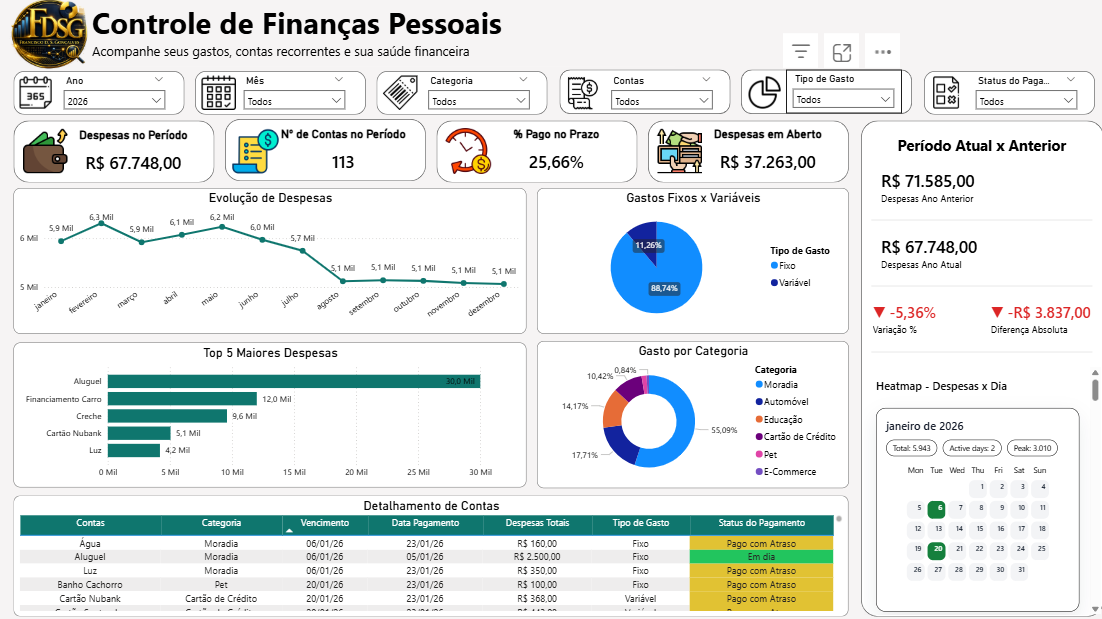

Layout of this report page (visuals, bound fields, positions):
{"tool":"powerbi","page":{"name":"Página 1","canvas":[1600,900],"ordinal":0},"visuals":[{"type":"shape","box":[1247.7,176.1,352.3,719.3],"z":0},{"type":"shape","box":[18.9,175.6,291.1,90],"z":1000},{"type":"shape","box":[1338.9,103.3,247.8,63.3],"z":2000},{"type":"shape","box":[1074.4,102.2,247.8,64.4],"z":3000},{"type":"shape","box":[811.1,102.2,247.8,64.4],"z":4000},{"type":"shape","box":[546.7,103.3,247.8,63.3],"z":5000},{"type":"shape","box":[283.3,103.3,247.8,63.3],"z":6000},{"type":"shape","box":[18.9,103.3,247.8,63.3],"z":7000},{"type":"slicer","fields":{"Values":["Calendario.Date.Variation.Hierarquia de datas.Ano"]},"box":[83.3,103.3,166.7,63.3],"z":8000},{"type":"cardVisual","title":"Despesas no Período","fields":{"Data":["NovasMedidas.Total Gasto"]},"box":[75.6,186.7,234.4,78.9],"z":9000},{"type":"lineChart","title":"Evolução de Despesas","fields":{"Category":["Calendario.Date.Variation.Hierarquia de datas.Ano","Calendario.Date.Variation.Hierarquia de datas.Trimestre","Calendario.Date.Variation.Hierarquia de datas.Mês","Calendario.Date.Variation.Hierarquia de datas.Dia"],"Y":["NovasMedidas.Total Gasto"]},"box":[18.9,274.4,743.3,211.1],"z":10000},{"type":"donutChart","title":"Gasto por Categoria","fields":{"Category":["Despesas Detalhe.Categoria"],"Y":["NovasMedidas.Total Gasto"]},"box":[777.3,495.5,452.3,213.6],"z":11000},{"type":"clusteredBarChart","title":"Top 5 Maiores Despesas","fields":{"Category":["Despesas Detalhe.Contas"],"Y":["NovasMedidas.Total Gasto"]},"box":[19.3,497.7,743.2,210.2],"z":12000},{"type":"pieChart","title":"Gastos Fixos x Variáveis","fields":{"Y":["NovasMedidas.Total Gasto"],"Category":["Despesas Detalhe.Tipo de Gasto"]},"box":[777.8,274.4,452.2,211.1],"z":13000},{"type":"tableEx","title":"Detalhamento de Contas","fields":{"Values":["Despesas Detalhe.Contas","Despesas Detalhe.Categoria","Despesas Detalhe.Vencimento","Despesas Detalhe.Data Pagamento","Sum(Despesas Detalhe.Despesas Totais)","Despesas Detalhe.Tipo de Gasto","Despesas Detalhe.Status do Pagamento"]},"box":[19.3,720.5,1210.2,175],"z":14000},{"type":"textbox","box":[127.8,0,850,97.8],"z":15000},{"type":"calendarHeatmap9C5B780604B844298D143AD6DD95EB16","fields":{"date":["Calendario.Date"],"value":["Sum(Calendario.Valor Dia Calendario)"]},"box":[1248,528,352,368],"z":16000},{"type":"cardVisual","fields":{"Data":["NovasMedidas.Valor Mês Anterior"]},"box":[1248,224,352,96],"z":17000},{"type":"image","box":[28.9,111.1,46.7,48.9],"z":18000},{"type":"image","box":[1084.4,111.1,46.7,48.9],"z":19000},{"type":"image","box":[811.1,106.7,64.4,60],"z":20000},{"type":"image","box":[553.3,110,51.1,50],"z":21000},{"type":"image","box":[292.2,110,51.1,50],"z":22000},{"type":"image","box":[1348.9,111.1,46.7,48.9],"z":23000},{"type":"image","box":[0,0,143.3,103.3],"z":24000},{"type":"slicer","fields":{"Values":["Calendario.Date.Variation.Hierarquia de datas.Mês"]},"box":[343.3,104.4,166.7,63.3],"z":25000},{"type":"slicer","fields":{"Values":["Despesas Detalhe.Categoria"]},"box":[611.1,104.4,166.7,63.3],"z":26000},{"type":"slicer","fields":{"Values":["Despesas Detalhe.Contas"]},"box":[875.6,103.3,166.7,63.3],"z":27000},{"type":"slicer","fields":{"Values":["Despesas Detalhe.Tipo de Gasto"]},"box":[1140,102.2,166.7,63.3],"z":28000},{"type":"slicer","fields":{"Values":["Despesas Detalhe.Status do Pagamento"]},"box":[1404.4,103.3,166.7,63.3],"z":29000},{"type":"shape","box":[325.6,174.4,291.1,90],"z":30000},{"type":"shape","box":[632.2,175.6,291.1,90],"z":31000},{"type":"shape","box":[938.9,175.6,291.1,90],"z":32000},{"type":"cardVisual","title":"Nº de Contas no Período","fields":{"Data":["CountNonNull(Despesas Detalhe.Contas)"]},"box":[381.1,185.6,234.4,78.9],"z":33000},{"type":"cardVisual","title":"% Pago no Prazo","fields":{"Data":["NovasMedidas.% Pago no Prazo"]},"box":[688.9,185.6,234.4,78.9],"z":34000},{"type":"cardVisual","title":"Despesas em Aberto","fields":{"Data":["NovasMedidas.Valor em Atraso"]},"box":[995.6,185.6,234.4,78.9],"z":35000},{"type":"image","box":[28.9,186.7,74.4,66.7],"z":36000},{"type":"image","box":[331.8,187.5,75,67],"z":37000},{"type":"image","box":[642.2,187.8,74.4,66.7],"z":38000},{"type":"image","box":[948.9,187.8,74.4,66.7],"z":39000},{"type":"textbox","box":[1264,192,320,48],"z":40000},{"type":"cardVisual","fields":{"Data":["NovasMedidas.Valor Período Atual"]},"box":[1248,320,352,96],"z":41000},{"type":"cardVisual","fields":{"Data":["NovasMedidas.Variação % Exibição","NovasMedidas.Diferença Exibição"]},"box":[1248,416,352,96],"z":42000},{"type":"shape","box":[1264,304,320,32],"z":43000},{"type":"shape","box":[1264,400,320,32],"z":44000},{"type":"shape","box":[1264,496,320,32],"z":45000}]}

Visuals, with their boxes in screenshot pixels (x1, y1, x2, y2), scaled from the page's 1600x900 canvas onto the 1102x619 screenshot:
shape: region(859, 121, 1101, 616)
shape: region(13, 121, 214, 183)
shape: region(922, 71, 1093, 115)
shape: region(740, 70, 911, 115)
shape: region(559, 70, 729, 115)
shape: region(377, 71, 547, 115)
shape: region(195, 71, 366, 115)
shape: region(13, 71, 184, 115)
slicer - Calendario.Date.Variation.Hierarquia de datas.Ano: region(57, 71, 172, 115)
"Despesas no Período" cardVisual: region(52, 128, 214, 183)
"Evolução de Despesas" lineChart: region(13, 189, 525, 334)
"Gasto por Categoria" donutChart: region(535, 341, 847, 488)
"Top 5 Maiores Despesas" clusteredBarChart: region(13, 342, 525, 487)
"Gastos Fixos x Variáveis" pieChart: region(536, 189, 847, 334)
"Detalhamento de Contas" tableEx: region(13, 496, 847, 616)
textbox: region(88, 0, 673, 67)
calendarHeatmap9C5B780604B844298D143AD6DD95EB16 - Calendario.Date x Sum(Calendario.Valor Dia Calendario): region(860, 363, 1101, 616)
cardVisual - NovasMedidas.Valor Mês Anterior: region(860, 154, 1101, 220)
image: region(20, 76, 52, 110)
image: region(747, 76, 779, 110)
image: region(559, 73, 603, 115)
image: region(381, 76, 416, 110)
image: region(201, 76, 236, 110)
image: region(929, 76, 961, 110)
image: region(0, 0, 99, 71)
slicer - Calendario.Date.Variation.Hierarquia de datas.Mês: region(236, 72, 351, 115)
slicer - Despesas Detalhe.Categoria: region(421, 72, 536, 115)
slicer - Despesas Detalhe.Contas: region(603, 71, 718, 115)
slicer - Despesas Detalhe.Tipo de Gasto: region(785, 70, 900, 114)
slicer - Despesas Detalhe.Status do Pagamento: region(967, 71, 1082, 115)
shape: region(224, 120, 425, 182)
shape: region(435, 121, 636, 183)
shape: region(647, 121, 847, 183)
"Nº de Contas no Período" cardVisual: region(262, 128, 424, 182)
"% Pago no Prazo" cardVisual: region(474, 128, 636, 182)
"Despesas em Aberto" cardVisual: region(686, 128, 847, 182)
image: region(20, 128, 71, 174)
image: region(229, 129, 280, 175)
image: region(442, 129, 494, 175)
image: region(654, 129, 705, 175)
textbox: region(871, 132, 1091, 165)
cardVisual - NovasMedidas.Valor Período Atual: region(860, 220, 1101, 286)
cardVisual - NovasMedidas.Variação % Exibição x NovasMedidas.Diferença Exibição: region(860, 286, 1101, 352)
shape: region(871, 209, 1091, 231)
shape: region(871, 275, 1091, 297)
shape: region(871, 341, 1091, 363)
